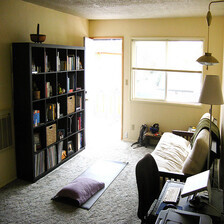laptop: (176, 171, 212, 192)
